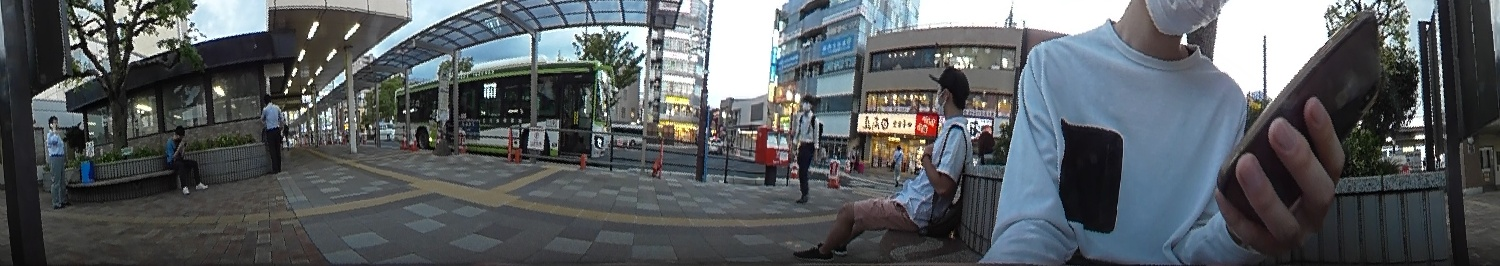difficult_person: (892, 141, 905, 185), (847, 141, 858, 171)
person: (795, 67, 975, 255), (790, 90, 821, 206), (161, 122, 206, 193), (43, 114, 72, 210), (259, 92, 288, 169)
